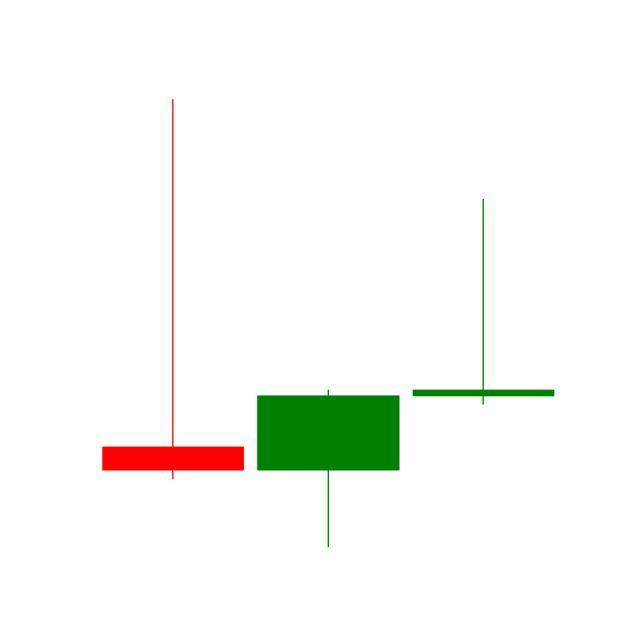Gravestone Doji: (406, 197, 562, 407)
